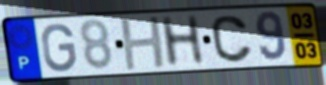8: (78, 18, 118, 74)
9: (253, 9, 289, 65)
C: (209, 14, 255, 65)
G: (40, 22, 78, 74)
H: (118, 14, 169, 73), (157, 13, 207, 70)
